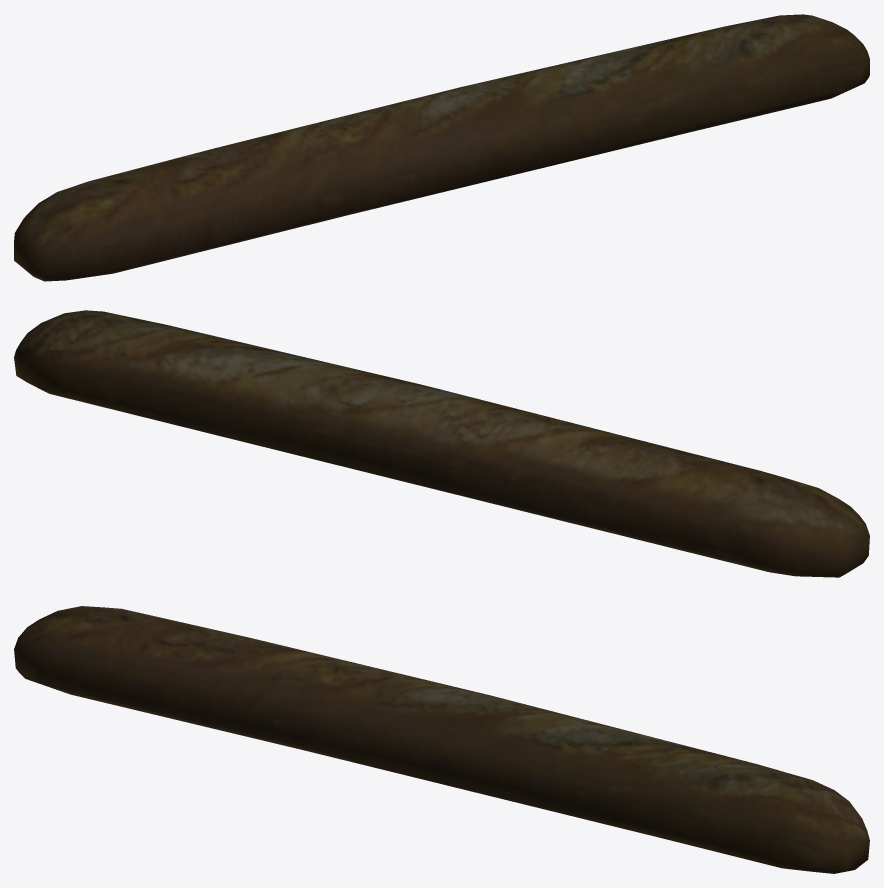
File: melee_stale_baguette_mx_1.obj
3 views of the same model, one above another, from view 1: azimuth 30°, elevation 25°; view 2: azimuth 150°, elevation 25°; view 3: azimuth 330°, elevation 25° (orthographic).
Parts seen in each view (by area): view 1: melee_stale_baguette_mx_1; view 2: melee_stale_baguette_mx_1; view 3: melee_stale_baguette_mx_1.
Boxes of the visible parts, <box> form: melee_stale_baguette_mx_1: <box>14,14,869,281</box>; melee_stale_baguette_mx_1: <box>14,310,869,577</box>; melee_stale_baguette_mx_1: <box>14,606,869,873</box>.
Size of the model in its own units: 0.7769 by 0.0678 by 0.093.
